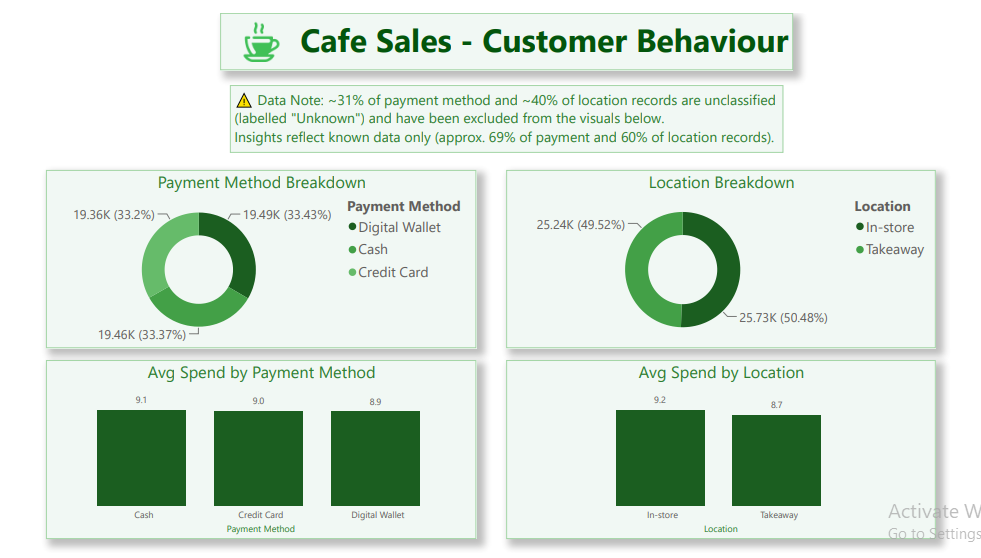

This screenshot's page, from the dashboard's own definition file:
{"tool":"powerbi","page":{"name":"Customer Behaviour","canvas":[1280,720],"ordinal":3},"visuals":[{"type":"textbox","box":[280,0,762.9,75.7],"z":0},{"type":"image","box":[280,11.4,108.6,52.9],"z":1000},{"type":"donutChart","title":"Payment Method Breakdown","fields":{"Y":["clean_cafe_sales.Total Revenue"],"Category":["clean_cafe_sales.Payment Method"]},"box":[47.5,208.8,573.1,237.6],"z":2000},{"type":"donutChart","title":"Location Breakdown ","fields":{"Category":["clean_cafe_sales.Location"],"Y":["clean_cafe_sales.Total Revenue"]},"box":[661,208.8,571.7,237.6],"z":3000},{"type":"textbox","box":[292.9,95.7,737.1,90],"z":4000},{"type":"clusteredColumnChart","title":"Avg Spend by Payment Method","fields":{"Category":["clean_cafe_sales.Payment Method"],"Y":["clean_cafe_sales.Avg Spend by Payment"]},"box":[47.5,462.2,573.1,237.6],"z":5000},{"type":"clusteredColumnChart","title":"Avg Spend by Location","fields":{"Category":["clean_cafe_sales.Location"],"Y":["clean_cafe_sales.Avg Spend by Location"]},"box":[661,462.2,571.7,237.6],"z":6000}]}

Visuals, with their boxes in screenshot pixels (x1, y1, x2, y2), scaled from the page's 1280x720 canvas onto the 981x558 screenshot:
textbox: select_region(215, 0, 799, 59)
image: select_region(215, 9, 298, 50)
"Payment Method Breakdown" donutChart: select_region(36, 162, 476, 346)
"Location Breakdown " donutChart: select_region(507, 162, 945, 346)
textbox: select_region(224, 74, 789, 144)
"Avg Spend by Payment Method" clusteredColumnChart: select_region(36, 358, 476, 542)
"Avg Spend by Location" clusteredColumnChart: select_region(507, 358, 945, 542)
